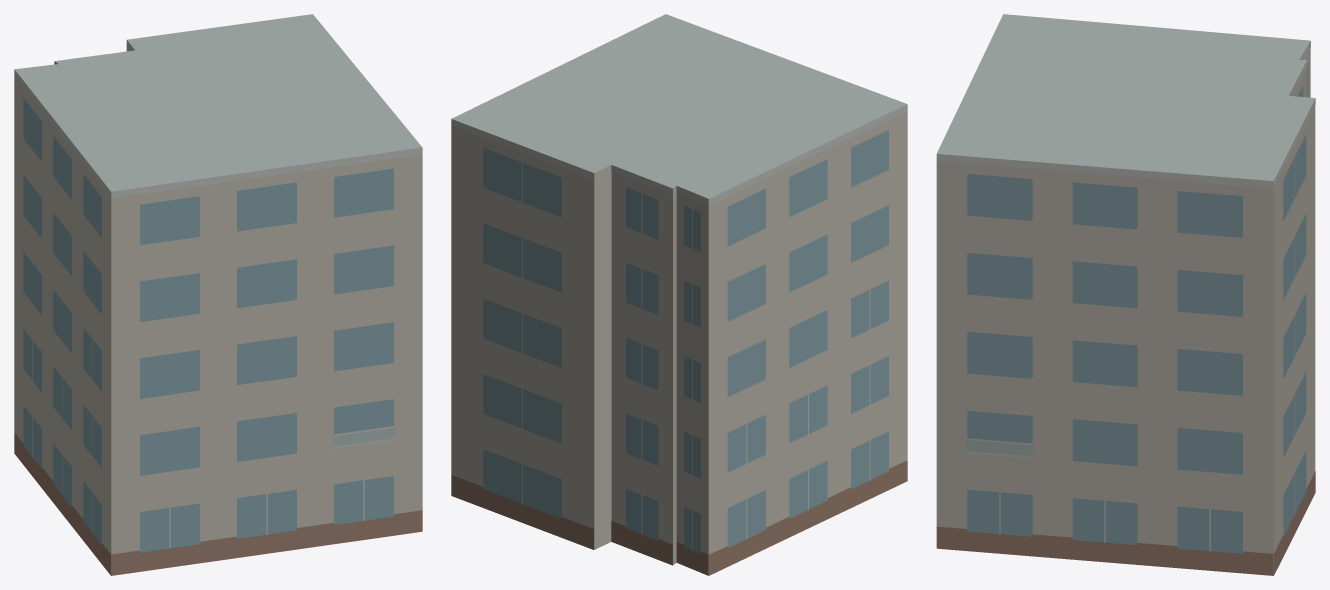
The model's file is survey-upis-32900366.glb.
3 renders of one model, left to right at view 1: azimuth 30°, elevation 25°; view 2: azimuth 150°, elevation 25°; view 3: azimuth 270°, elevation 25°, orthographic. The views are drawn at different scales.
Parts seen in each view (by area): view 1: survey-upis-32900366.tmp; view 2: survey-upis-32900366.tmp; view 3: survey-upis-32900366.tmp.
Boxes of the visible parts, x1,y1,x2,y2 form: survey-upis-32900366.tmp: (14, 14, 422, 575); survey-upis-32900366.tmp: (451, 14, 907, 575); survey-upis-32900366.tmp: (936, 14, 1315, 575).
Size of the model in its own units: 12.5 by 13.75 by 11.97.
